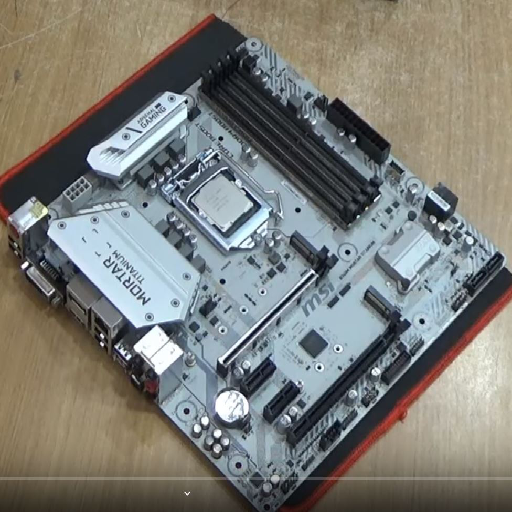CPU: (171, 158, 271, 248)
GPU: (281, 310, 413, 451), (212, 244, 340, 379)
MOTHERBOARD: (15, 37, 505, 501)
RAM: (198, 51, 384, 227)
SSD: (361, 283, 398, 320), (288, 230, 322, 263)
